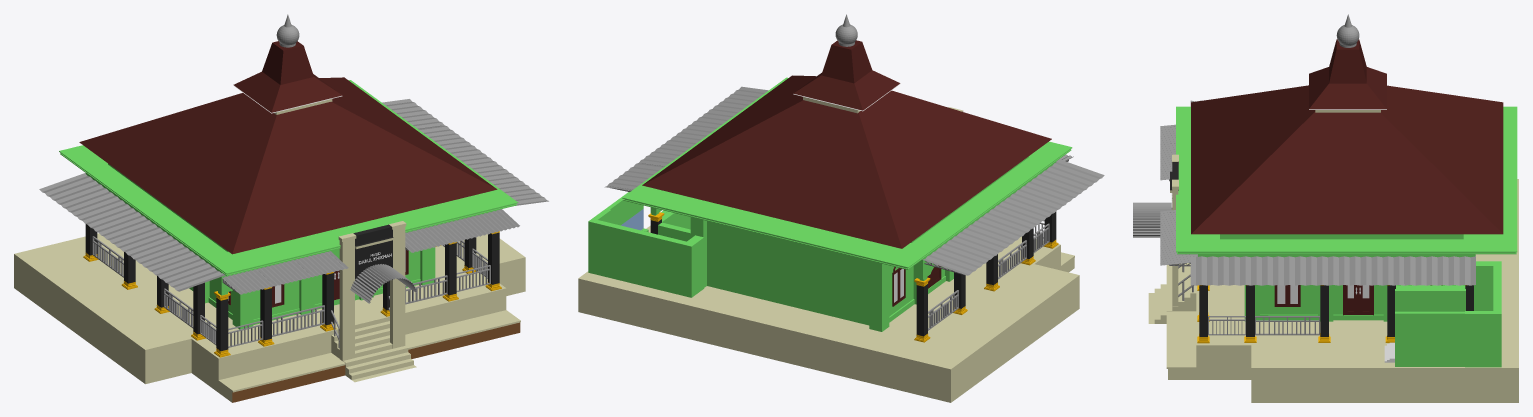
File: darulKhikmah.glb
3 renders of one model, left to right at view 1: azimuth 30°, elevation 25°; view 2: azimuth 150°, elevation 25°; view 3: azimuth 270°, elevation 25°, orthographic. The views are drawn at different scales.
Parts seen in each view (by area): view 1: Plane.004, Cube, Cube.005, Plane.002, Plane.005, Plane.003, Cube.001, Plane, Plane.001, tengah, Cube.003, Cube.002 (+17 smaller); view 2: Plane.004, Cube, tengah, Cube.005, Plane.002, Cube.028, Plane.005, Plane.003, tiangDalam.003, Cube.026, tiangLuar.011, Plane.015 (+3 smaller); view 3: Plane.004, Cube, Cube.005, Plane.003, Plane.005, Cube.026, Cube.028, tengah, Cube.025, Cube.001, Plane.034, Plane.001 (+11 smaller).
Boxes of the visible parts, left/top/right/bottom form: Plane.004: left=79, top=77, right=497, bottom=254; Cube: left=14, top=233, right=525, bottom=402; Cube.005: left=59, top=80, right=518, bottom=292; Plane.002: left=39, top=173, right=224, bottom=291; Plane.005: left=233, top=41, right=342, bottom=112; Plane.003: left=382, top=99, right=548, bottom=205; Cube.001: left=331, top=321, right=416, bottom=382; Plane: left=222, top=251, right=348, bottom=294; Plane.001: left=405, top=209, right=519, bottom=252; tengah: left=189, top=250, right=420, bottom=324; Cube.003: left=338, top=233, right=356, bottom=361; Cube.002: left=389, top=221, right=406, bottom=348; Plane.004: left=642, top=75, right=1051, bottom=248; Cube: left=578, top=225, right=1079, bottom=402; tengah: left=707, top=221, right=945, bottom=325; Cube.005: left=622, top=77, right=1072, bottom=279; Plane.002: left=922, top=159, right=1104, bottom=275; Cube.028: left=588, top=209, right=704, bottom=297; Plane.005: left=793, top=40, right=900, bottom=110; Plane.003: left=604, top=86, right=768, bottom=190; tiangDalam.003: left=869, top=260, right=889, bottom=331; Cube.026: left=606, top=192, right=648, bottom=232; tiangLuar.011: left=914, top=277, right=930, bottom=342; Plane.015: left=928, top=290, right=958, bottom=330; Plane.004: left=1191, top=85, right=1503, bottom=234; Cube: left=1166, top=179, right=1518, bottom=402; Cube.005: left=1176, top=106, right=1517, bottom=257; Plane.003: left=1190, top=256, right=1475, bottom=285; Plane.005: left=1309, top=39, right=1386, bottom=109; Cube.026: left=1395, top=311, right=1465, bottom=366; Cube.028: left=1465, top=261, right=1501, bottom=367; tengah: left=1260, top=285, right=1455, bottom=320; Cube.025: left=1395, top=289, right=1465, bottom=311; Cube.001: left=1148, top=264, right=1196, bottom=323; Plane.034: left=1133, top=202, right=1172, bottom=237; Plane.001: left=1160, top=210, right=1197, bottom=265.
Size of the model in its own units: 20.43 by 14.85 by 17.63.
